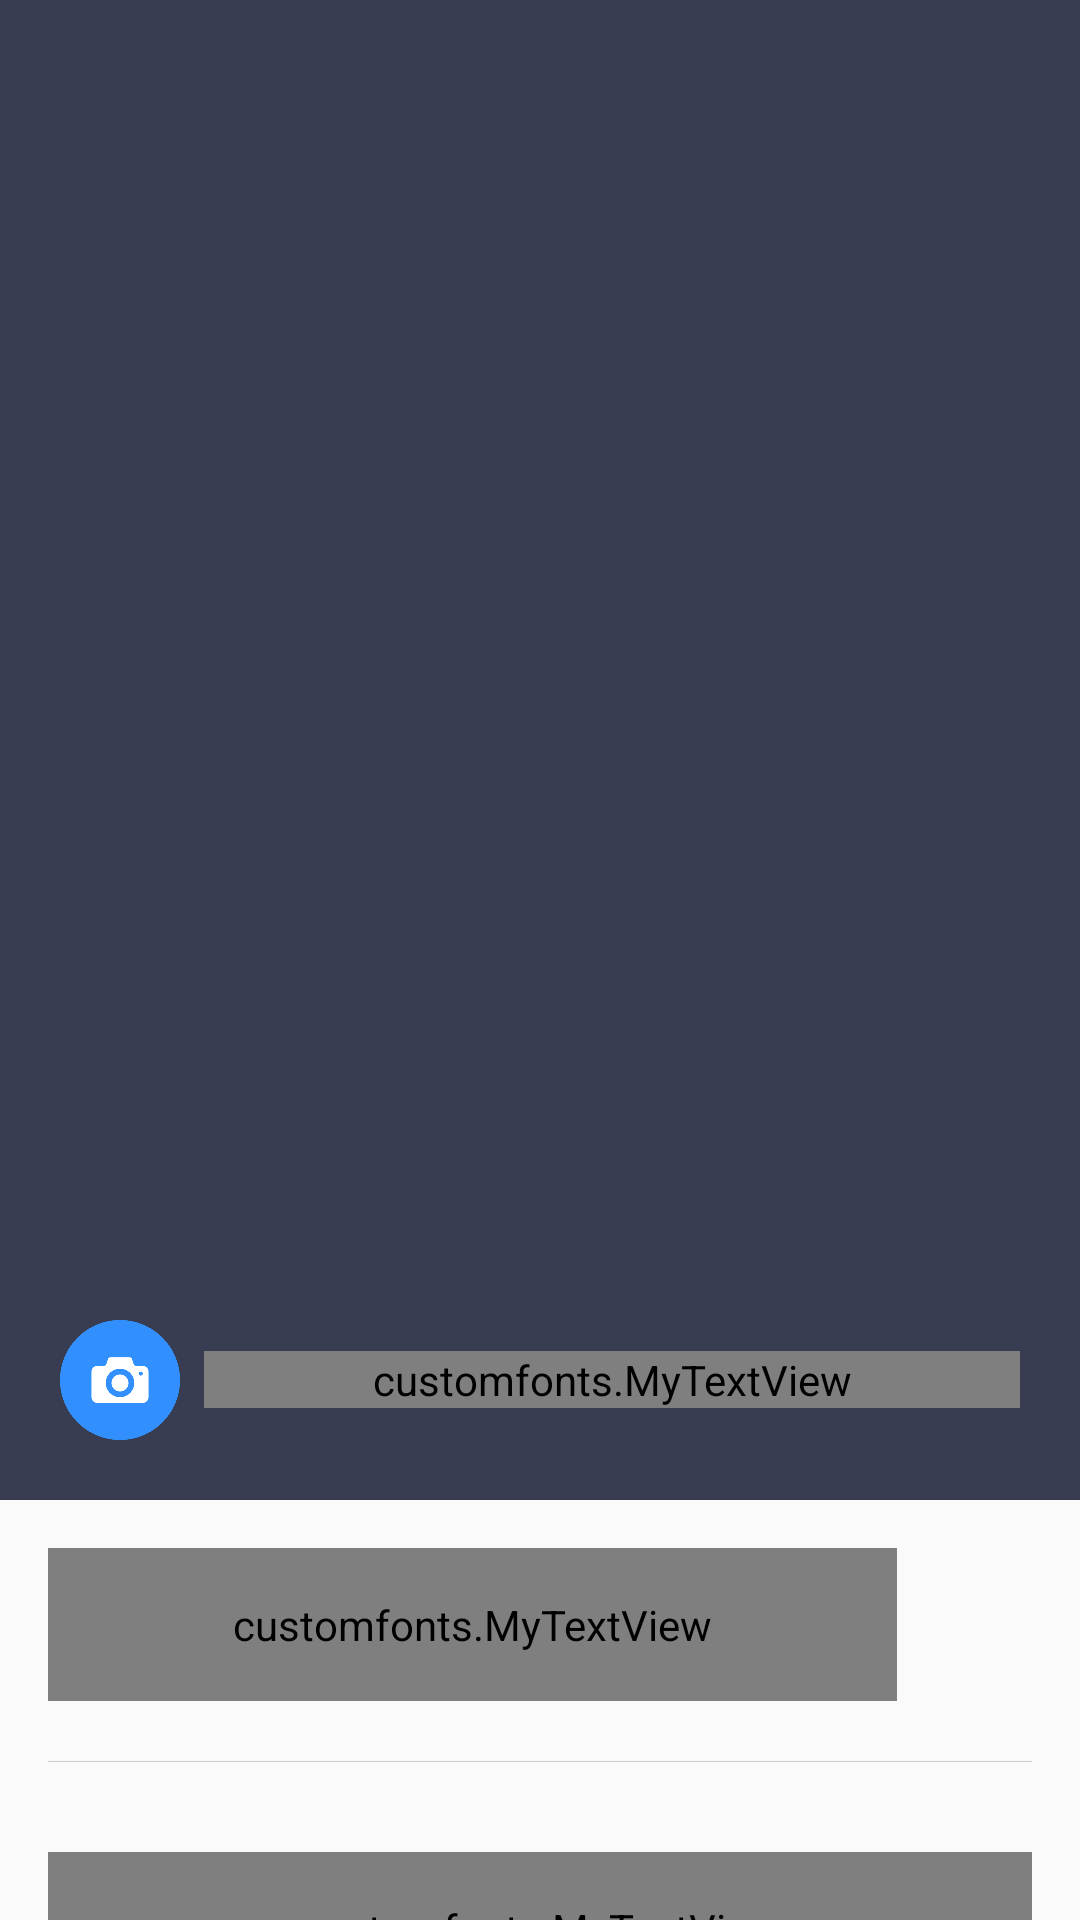

Icons on this 1080px×1920px Android screen, each with the point to tap as (x=x, y=y):
camera: (x=120, y=1380)
